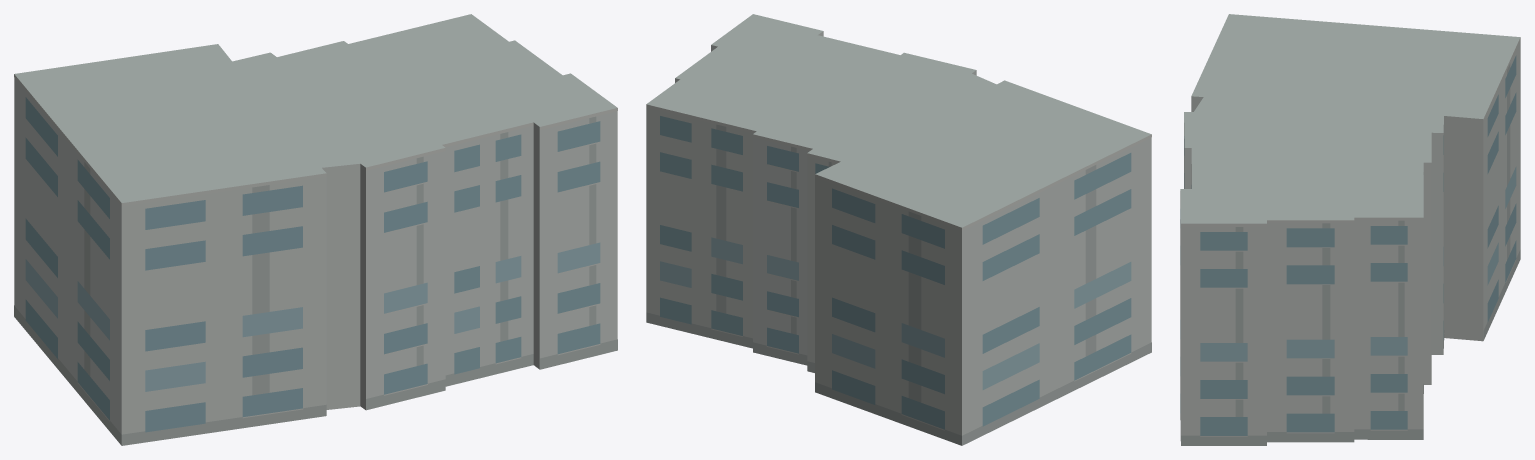
The model's file is survey-upis-32997480.glb.
The picture shows the model from 3 angles, left to right: view 1: azimuth 30°, elevation 25°; view 2: azimuth 150°, elevation 25°; view 3: azimuth 270°, elevation 25°; orthographic projection. The views are drawn at different scales.
Visible parts, largest first — view 1: survey-upis-32997480.tmp; view 2: survey-upis-32997480.tmp; view 3: survey-upis-32997480.tmp.
Part boxes in pixels (box(x1,y1,x2,y2)): survey-upis-32997480.tmp: box(14, 14, 617, 445); survey-upis-32997480.tmp: box(646, 14, 1151, 445); survey-upis-32997480.tmp: box(1180, 14, 1520, 445).
Size of the model in its own units: 35.63 by 17.58 by 24.41.
